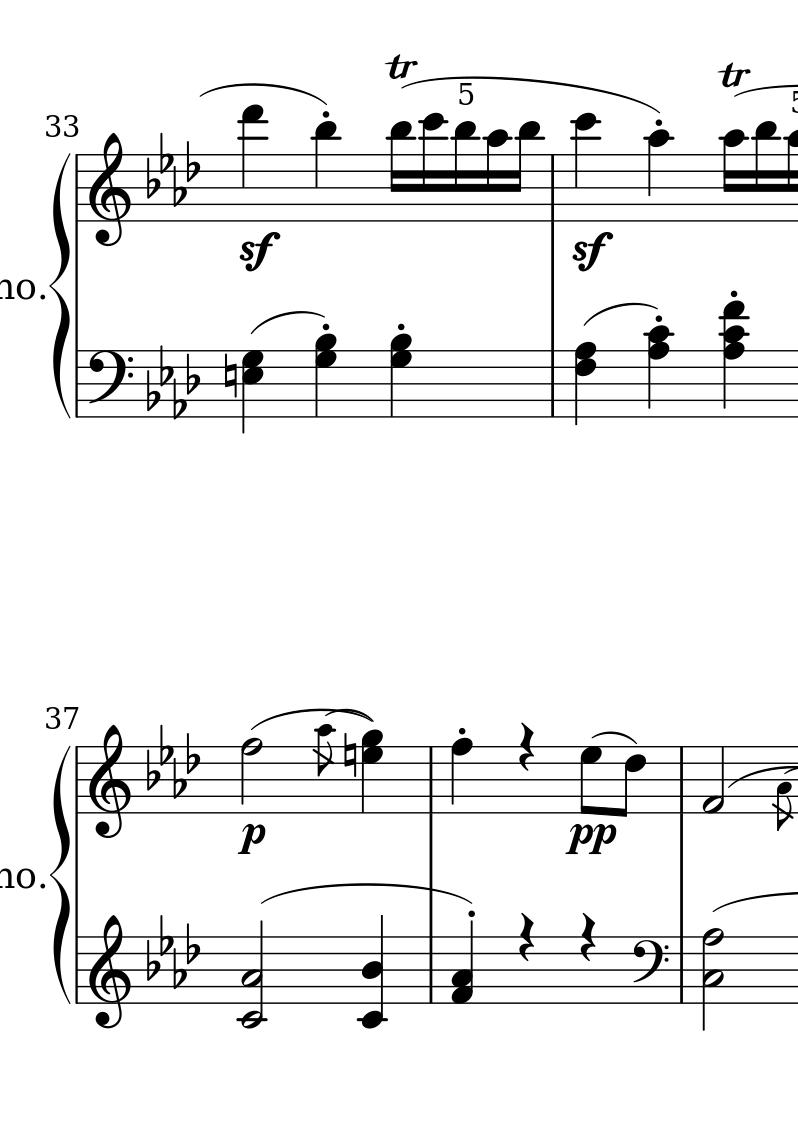16_10: (718, 128, 746, 222), (483, 127, 509, 222)
16_11: (509, 119, 542, 224), (386, 120, 414, 224), (451, 120, 477, 224), (752, 120, 778, 224)
16_12: (420, 112, 446, 223)
2_-2_3: (236, 919, 271, 1029)
2_1: (699, 743, 727, 816)
2_3_8: (700, 927, 726, 1032)
2_8: (239, 736, 264, 815)
3: (62, 113, 80, 140), (44, 113, 61, 140), (44, 705, 61, 731)
4_-2_4: (356, 914, 389, 1029)
4_10: (644, 128, 673, 223)
4_11: (312, 120, 340, 223)
4_12: (571, 111, 602, 222)
4_13: (238, 104, 266, 222)
4_1_3: (450, 918, 475, 1007)
4_5_7: (240, 347, 266, 434)
4_6_8: (572, 341, 598, 428)
4_7_9: (314, 331, 339, 420), (360, 728, 385, 816), (389, 332, 412, 419)
4_8: (448, 737, 474, 816)
4_8_10: (641, 323, 676, 419)
4_th: (716, 296, 750, 420)
5: (455, 80, 476, 107)
7: (62, 704, 80, 732)
8_6: (615, 745, 648, 818)
8_7: (578, 744, 602, 815)
A_F: (143, 131, 201, 208), (142, 344, 200, 421), (144, 723, 200, 799), (145, 913, 201, 989)
Brace: (48, 147, 72, 417), (49, 739, 72, 1008)
Fclef: (85, 348, 133, 418), (631, 935, 667, 1005)
Gclef: (87, 913, 132, 1030), (88, 723, 132, 839), (88, 130, 131, 247)
Natural: (220, 351, 238, 401), (341, 731, 358, 780)
Rests4: (577, 911, 599, 963), (515, 721, 536, 773), (516, 911, 537, 963)
Single_barline: (545, 349, 560, 418), (545, 154, 560, 220), (674, 936, 689, 1002), (424, 747, 438, 812), (424, 937, 438, 1002), (72, 155, 85, 221), (72, 747, 85, 813), (72, 935, 84, 1005), (72, 350, 84, 416)
Slur: (404, 72, 667, 114), (259, 884, 469, 908), (199, 83, 326, 107), (252, 708, 374, 728), (249, 309, 326, 335), (583, 301, 658, 327), (590, 729, 638, 745)
Trill: (385, 52, 418, 79), (718, 61, 749, 88)
p: (236, 822, 267, 859)
pp: (563, 820, 615, 858)
sf: (570, 231, 612, 273), (237, 232, 279, 273)
